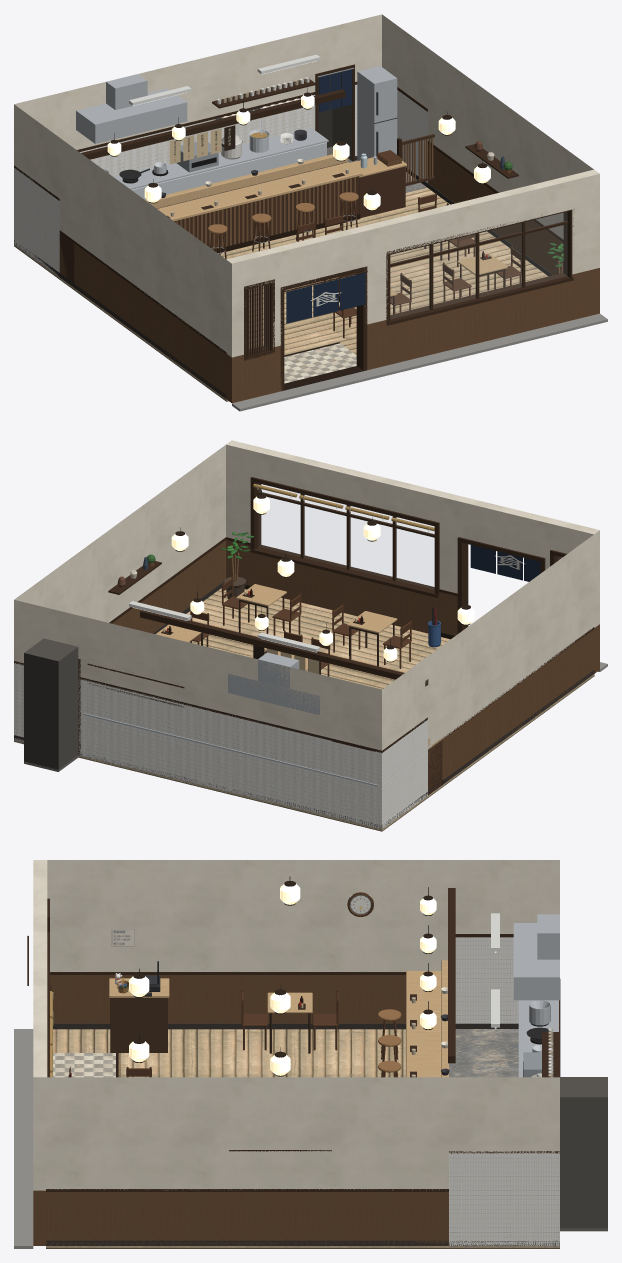
Rendered from wz_teishoku_interior.glb.
3 views of the same model, one above another, from view 1: azimuth 30°, elevation 25°; view 2: azimuth 150°, elevation 25°; view 3: azimuth 270°, elevation 25° (orthographic). The views are drawn at different scales.
Parts seen in each view (by area): view 1: wz_teishoku_props, WALL_W_wall, WALL_S_wall, WALL_N_wall, WALL_S_trim, WALL_E_wall, WALL_S_wain, wz_teishoku_floorm, WALL_S_glass, WALL_W_wain, wz_teishoku_woodparts, wz_teishoku_steelparts (+14 smaller); view 2: WALL_N_tile, WALL_N_wall, WALL_W_wall, WALL_S_wall, WALL_E_wall, wz_teishoku_floorm, wz_teishoku_props, WALL_S_glass, WALL_S_trim, WALL_S_wain, WALL_N_passage, WALL_W_wain (+12 smaller); view 3: WALL_E_wall, WALL_W_wall, WALL_E_wain, wz_teishoku_floorm, WALL_W_wain, WALL_E_tile, wz_teishoku_props, WALL_N_passage, WALL_S_trim, wz_teishoku_woodparts, WALL_W_tile, WALL_S_wall (+10 smaller).
Boxes of the visible parts, x1,y1,x2,y2 form: wz_teishoku_props: [60, 54, 563, 356]; WALL_W_wall: [14, 104, 226, 352]; WALL_S_wall: [226, 169, 599, 357]; WALL_N_wall: [14, 14, 381, 149]; WALL_S_trim: [225, 209, 607, 411]; WALL_E_wall: [382, 14, 593, 239]; WALL_S_wain: [226, 268, 599, 403]; wz_teishoku_floorm: [14, 187, 548, 401]; WALL_S_glass: [391, 212, 566, 318]; WALL_W_wain: [59, 233, 226, 397]; wz_teishoku_woodparts: [61, 154, 507, 296]; wz_teishoku_steelparts: [113, 66, 397, 189]; WALL_N_tile: [14, 663, 381, 828]; WALL_N_wall: [14, 600, 381, 750]; WALL_W_wall: [382, 534, 594, 750]; WALL_S_wall: [226, 440, 599, 627]; WALL_E_wall: [14, 445, 225, 622]; wz_teishoku_floorm: [14, 588, 594, 831]; wz_teishoku_props: [86, 490, 470, 819]; WALL_S_glass: [259, 484, 559, 588]; WALL_S_trim: [226, 477, 607, 673]; WALL_S_wain: [226, 540, 599, 673]; WALL_N_passage: [24, 638, 80, 771]; WALL_W_wain: [428, 629, 594, 792]; WALL_E_wall: [46, 1077, 559, 1190]; WALL_W_wall: [47, 860, 559, 971]; WALL_E_wain: [46, 1190, 448, 1245]; wz_teishoku_floorm: [46, 1029, 559, 1248]; WALL_W_wain: [50, 975, 405, 1023]; WALL_E_tile: [449, 1153, 559, 1245]; wz_teishoku_props: [68, 876, 548, 1077]; WALL_N_passage: [560, 1077, 607, 1231]; WALL_S_trim: [14, 898, 53, 1248]; wz_teishoku_woodparts: [109, 960, 448, 1077]; WALL_W_tile: [455, 937, 518, 1023]; WALL_S_wall: [33, 860, 47, 1190].
Bounding box in the file's own units: 8 × 2.95 × 9.25.
Materials: 29 (14 with a texture image).
